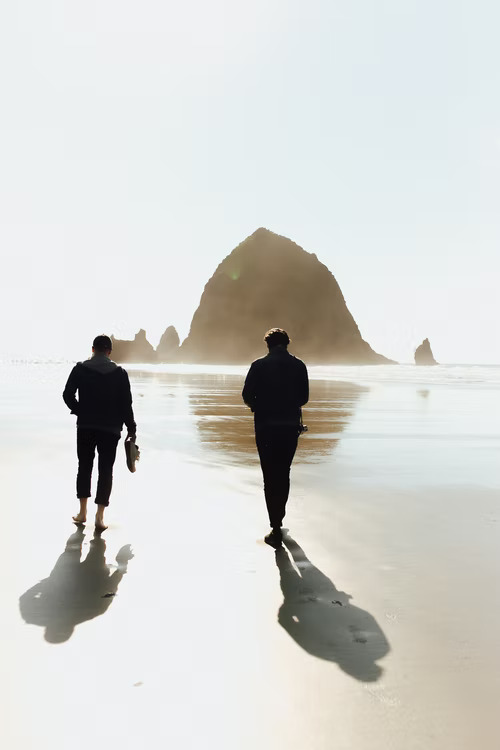person: (240, 329, 310, 543), (63, 336, 135, 526)
